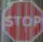Stop: (2, 2, 42, 39)
